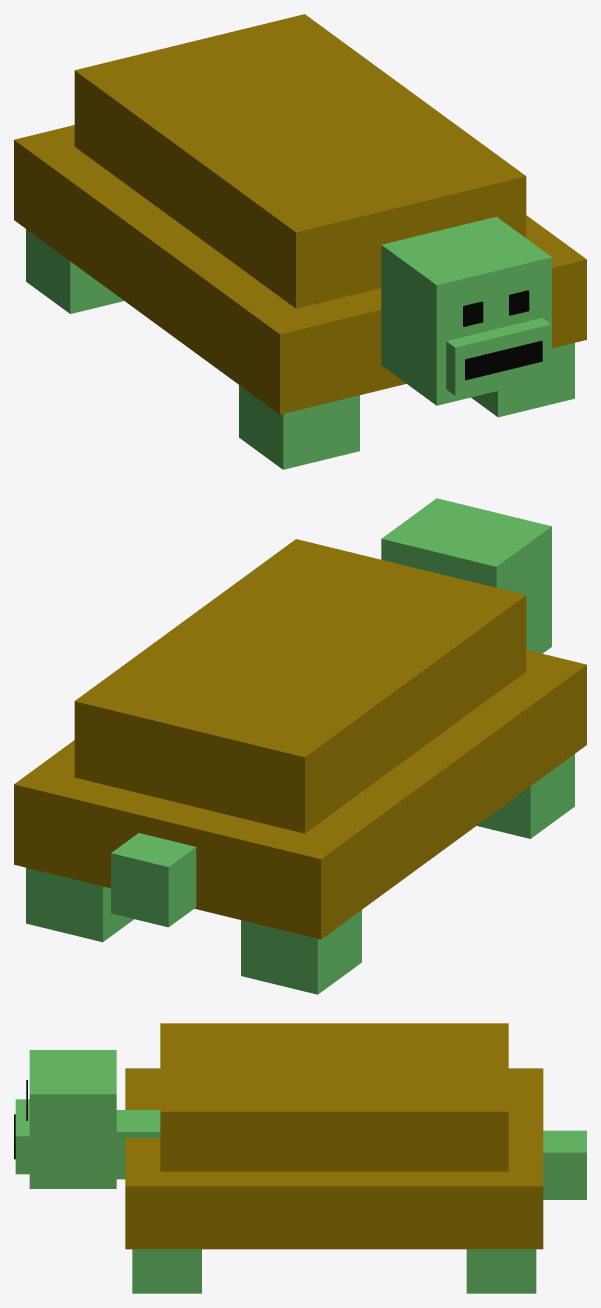
The model's file is Schildkroete.glb.
3 renders of one model, top to bottom at view 1: azimuth 30°, elevation 25°; view 2: azimuth 150°, elevation 25°; view 3: azimuth 270°, elevation 25°, orthographic. The views are drawn at different scales.
Size of the model in its own units: 0.8 by 0.54 by 1.65.
